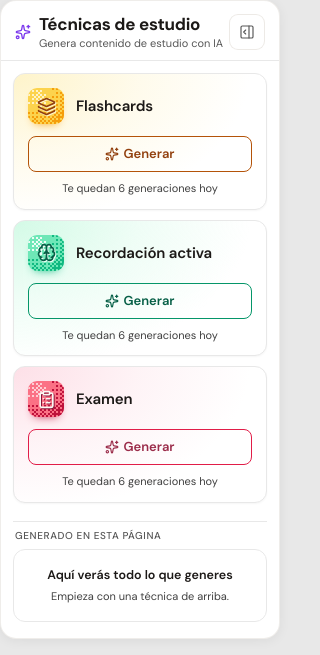
Test: TechniquesPanel › generated items list › adds the Flashcards row after a generation
What coordinates should you click on to do the following:
click the button with test id "generate-flashcards"
I would click on:
 (140, 154)
Its box is [28,136,252,172].
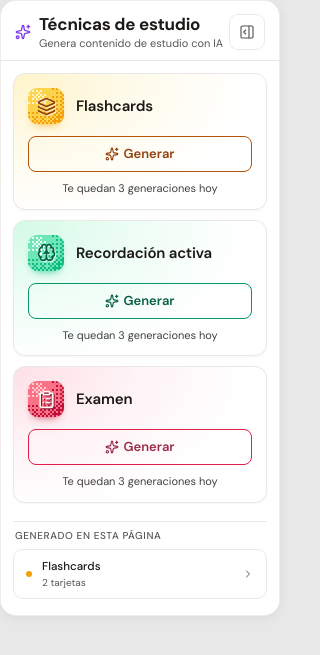
Now the link with test id "generated-item-flashcards" shows "2 tarjetas", box [13,548,267,599]
